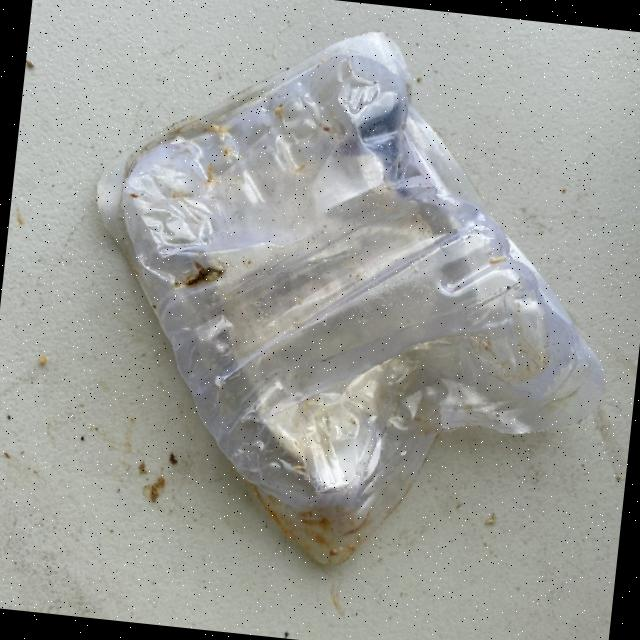plastic: (57, 1, 638, 592)
